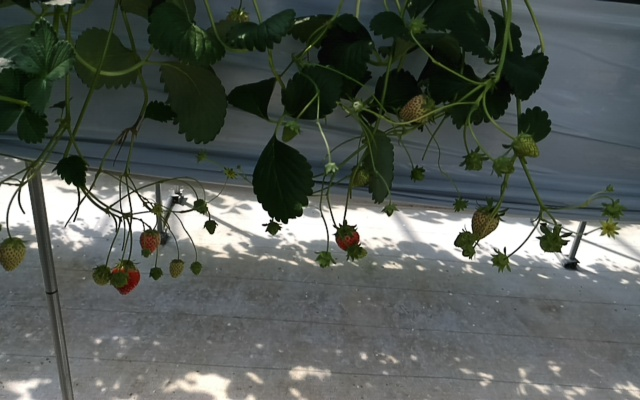GreenStrawberry: (399, 93, 437, 129), (471, 203, 501, 243), (1, 237, 26, 273), (512, 131, 541, 161), (536, 230, 565, 254), (139, 227, 161, 257), (348, 166, 371, 192), (92, 264, 112, 287), (282, 121, 300, 142), (169, 259, 184, 280), (113, 272, 127, 288)
MatureStrawberry: (111, 260, 141, 297), (335, 225, 359, 253)
